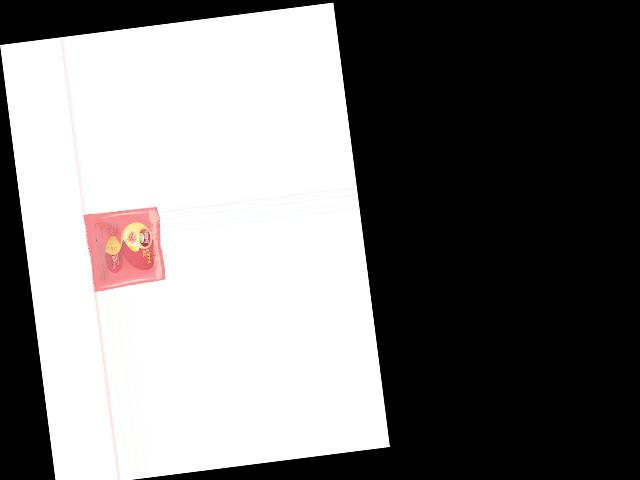cheese: (82, 204, 166, 289)
